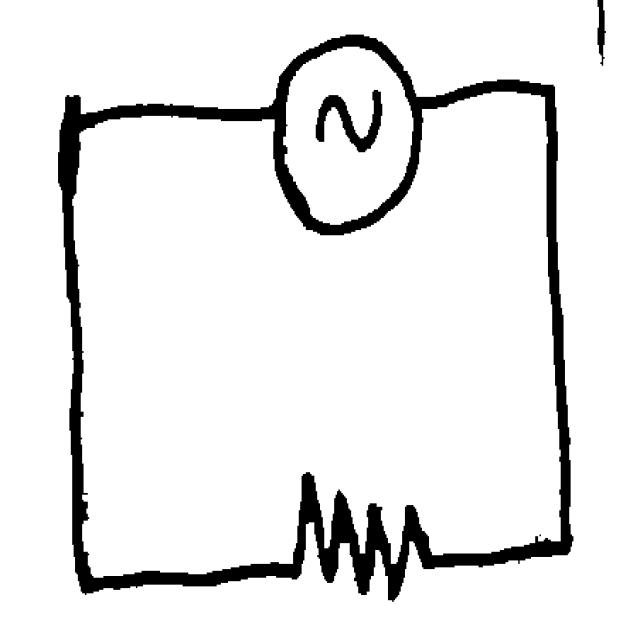ac: (253, 16, 437, 248)
resistor: (271, 461, 453, 615)
